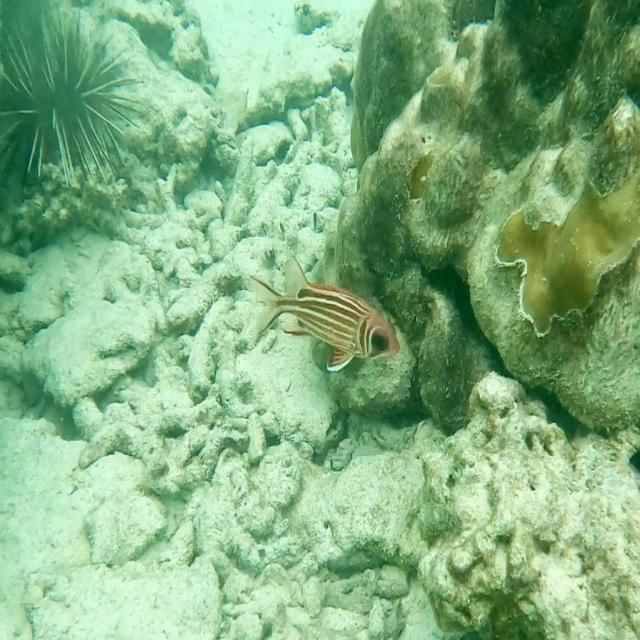Asker Baligi: (248, 254, 400, 374)
